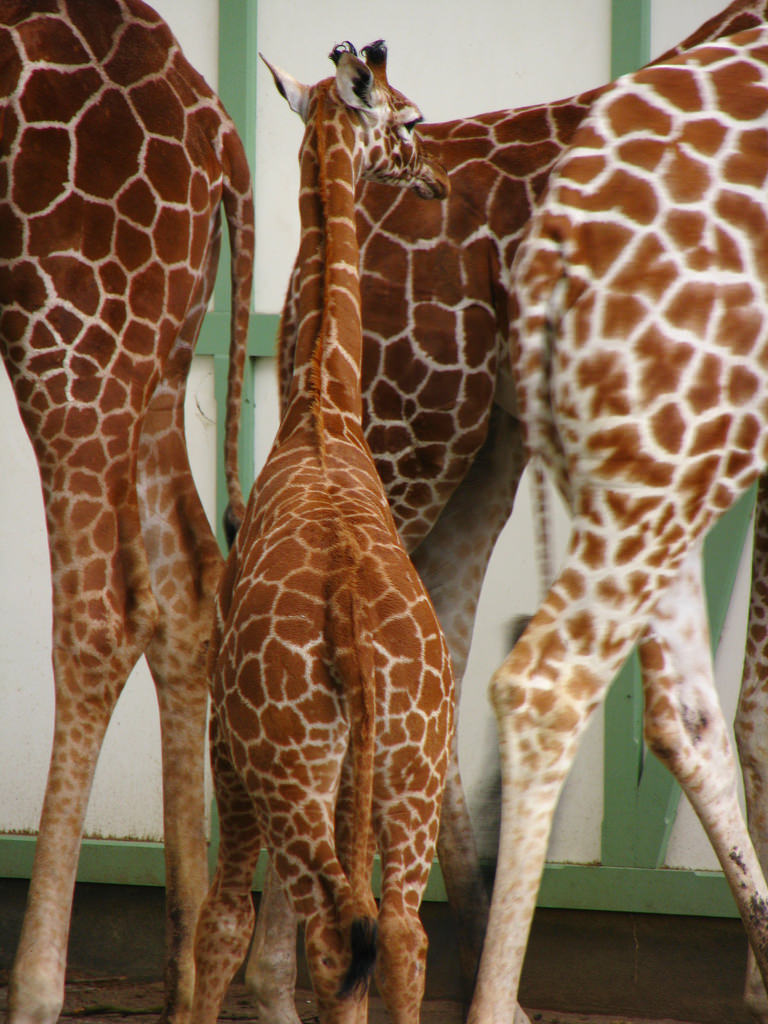giraffe: (239, 41, 466, 969)
